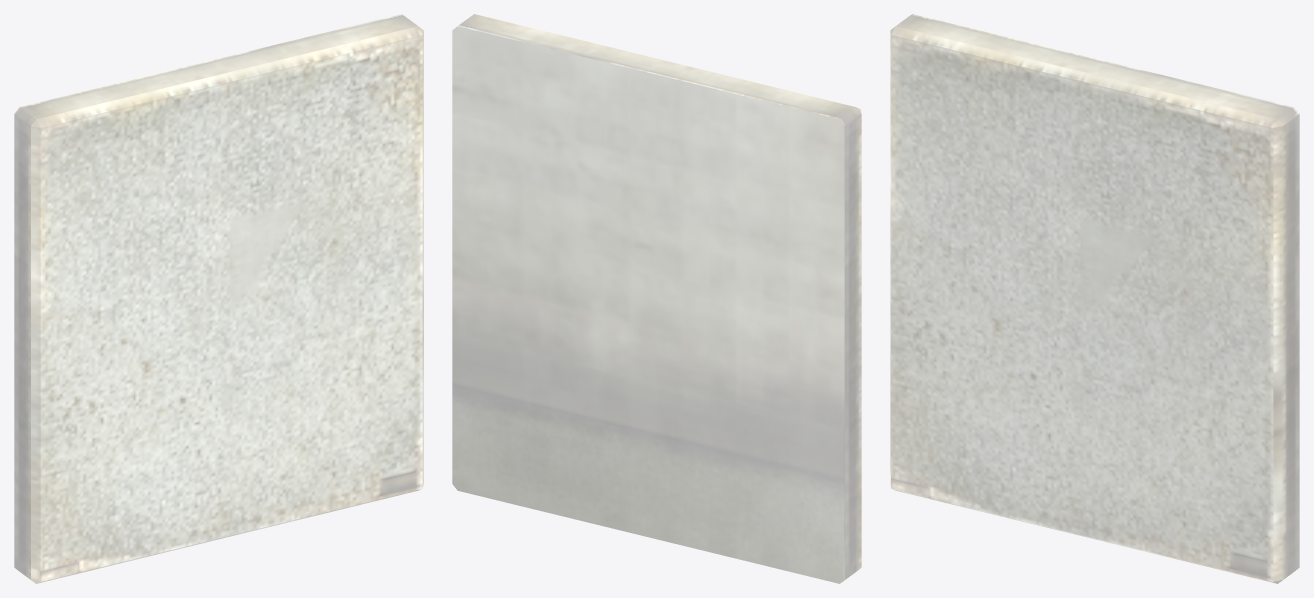
The model's file is E_Mail_Box_B.fbx.
The picture shows the model from 3 angles, left to right: view 1: azimuth 30°, elevation 25°; view 2: azimuth 150°, elevation 25°; view 3: azimuth 330°, elevation 25°; orthographic projection.
Visible parts, largest first — view 1: E_Mail_Box_B; view 2: E_Mail_Box_B; view 3: E_Mail_Box_B.
Part boxes in pixels (box(x1,y1,x2,y2)): E_Mail_Box_B: box(14, 14, 423, 583); E_Mail_Box_B: box(452, 14, 861, 583); E_Mail_Box_B: box(890, 14, 1299, 583).
Size of the model in its own units: 24.45 by 27.65 by 2.27.
Materials: 1 (1 with a texture image).
